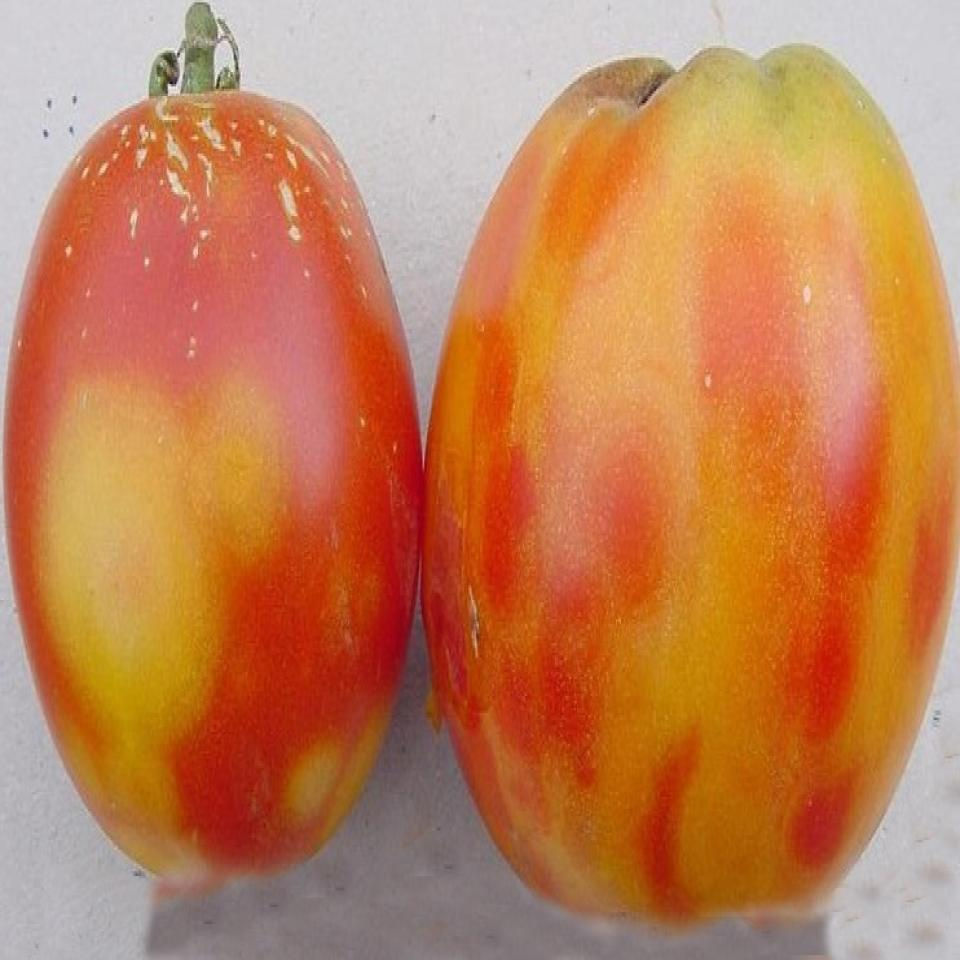Spotted wilt Virus: (420, 43, 959, 924), (3, 94, 423, 888)
